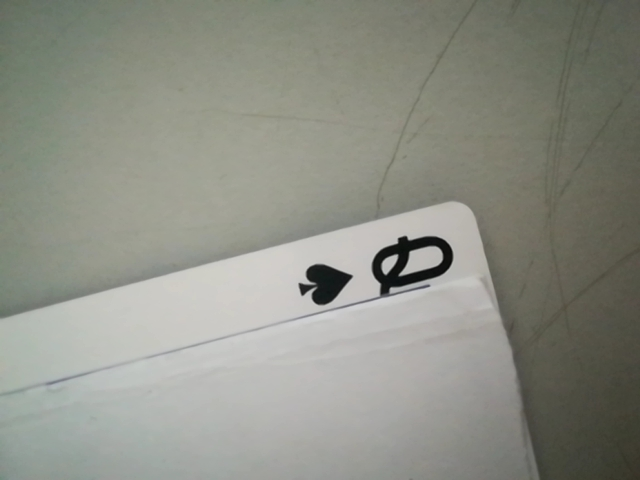ht q: (282, 225, 472, 318)
